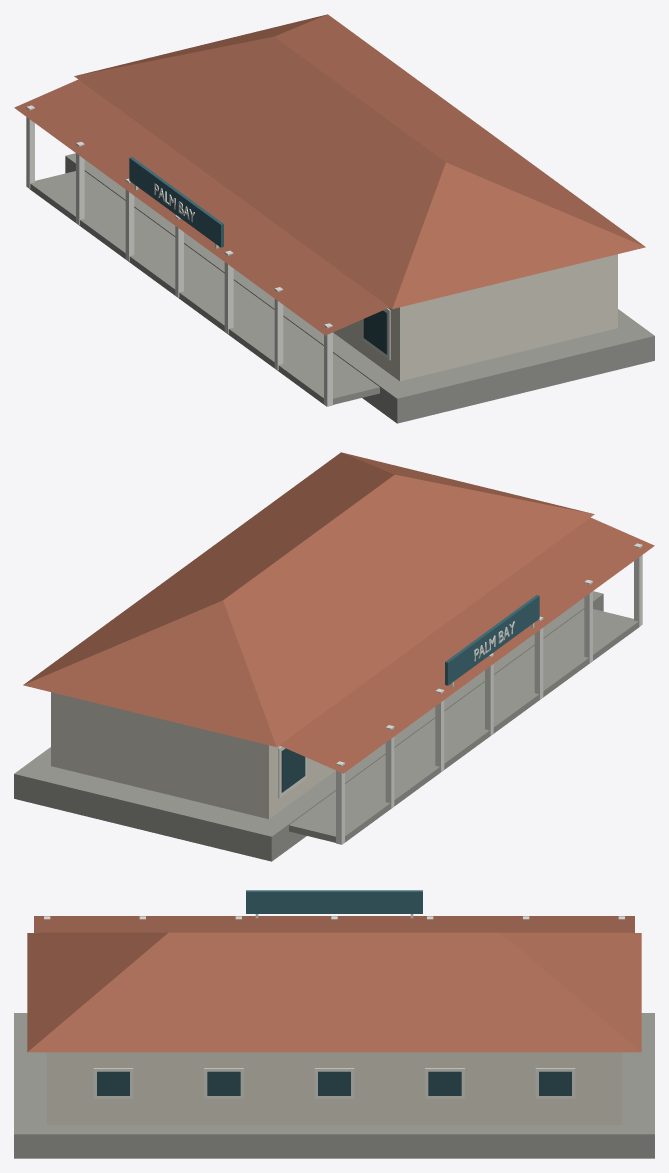
Rendered from airfield-terminal.glb.
3 renders of one model, top to bottom at view 1: azimuth 30°, elevation 25°; view 2: azimuth 150°, elevation 25°; view 3: azimuth 270°, elevation 25°, orthographic. The views are drawn at different scales.
Visible parts, largest first — view 1: airfield-terminal: Palm Bay coral, airfield-terminal: Palm Bay concrete, airfield-terminal: Palm Bay stucco, airfield-terminal: Palm Bay white, airfield-terminal: Palm Bay sign, airfield-terminal: Palm Bay glass; view 2: airfield-terminal: Palm Bay coral, airfield-terminal: Palm Bay concrete, airfield-terminal: Palm Bay stucco, airfield-terminal: Palm Bay white, airfield-terminal: Palm Bay sign, airfield-terminal: Palm Bay glass; view 3: airfield-terminal: Palm Bay coral, airfield-terminal: Palm Bay stucco, airfield-terminal: Palm Bay concrete, airfield-terminal: Palm Bay sign, airfield-terminal: Palm Bay glass, airfield-terminal: Palm Bay trim.
Part boxes in pixels (x1,y1,x2,y2): airfield-terminal: Palm Bay coral: (14,14,645,335); airfield-terminal: Palm Bay concrete: (30,153,654,423); airfield-terminal: Palm Bay stucco: (333,254,617,381); airfield-terminal: Palm Bay white: (26,105,332,406); airfield-terminal: Palm Bay sign: (129,157,223,247); airfield-terminal: Palm Bay glass: (363,310,387,354); airfield-terminal: Palm Bay coral: (23,452,654,773); airfield-terminal: Palm Bay concrete: (14,591,638,861); airfield-terminal: Palm Bay stucco: (51,692,335,819); airfield-terminal: Palm Bay white: (336,543,642,844); airfield-terminal: Palm Bay sign: (445,595,539,685); airfield-terminal: Palm Bay glass: (281,748,305,792); airfield-terminal: Palm Bay coral: (27,916,641,1052); airfield-terminal: Palm Bay stucco: (47,1052,621,1124); airfield-terminal: Palm Bay concrete: (14,1013,654,1158); airfield-terminal: Palm Bay sign: (246,890,422,913); airfield-terminal: Palm Bay glass: (97,1071,571,1095); airfield-terminal: Palm Bay trim: (93,1068,575,1098).
Size of the model in its own units: 16.1 by 8.25 by 29.
